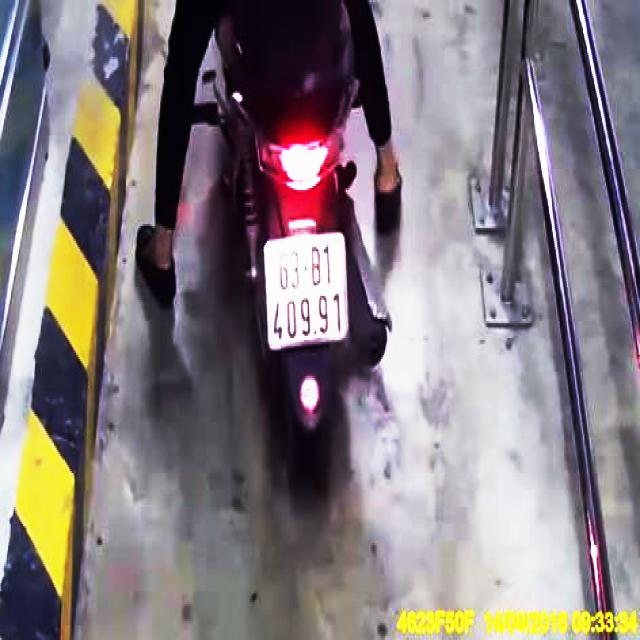license_plate: (265, 234, 348, 353)
